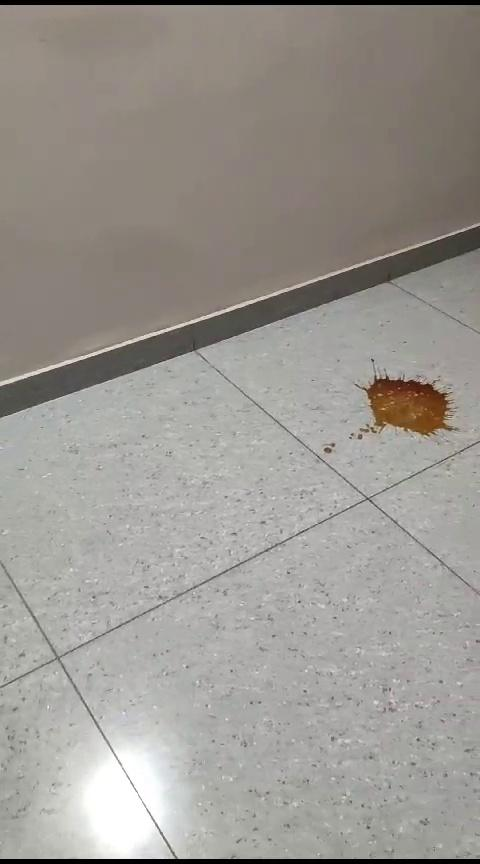dirty_floor: (319, 351, 459, 481)
